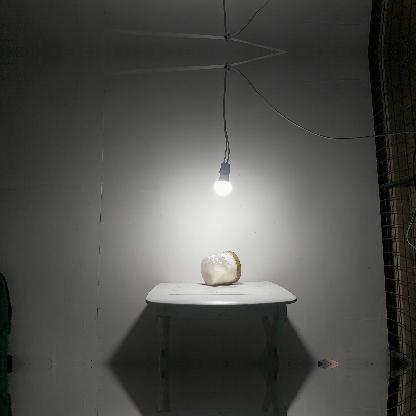Lady-s-Choice: (200, 250, 242, 286)
